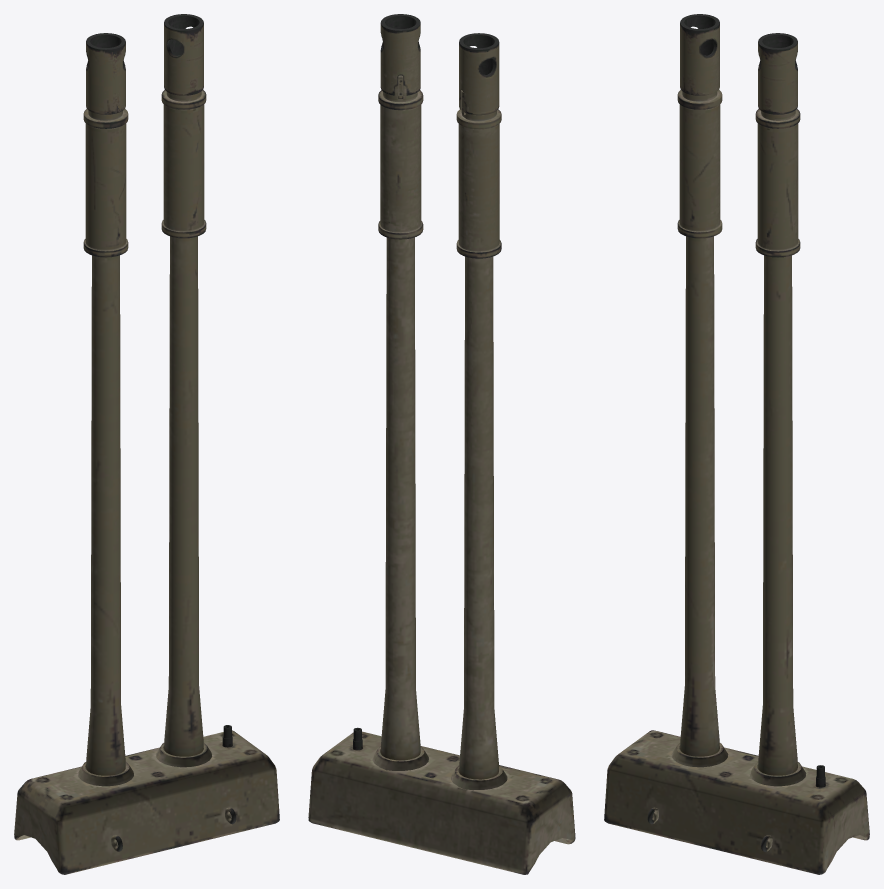
File: Gun_01.glb
3 views of the same model, side by side, from view 1: azimuth 30°, elevation 25°; view 2: azimuth 150°, elevation 25°; view 3: azimuth 330°, elevation 25° (orthographic).
Visible parts, largest first — view 1: set_0_group_0; view 2: set_0_group_0; view 3: set_0_group_0.
Boxes of the visible parts, <box> form: set_0_group_0: <box>14,14,279,874</box>; set_0_group_0: <box>308,14,575,874</box>; set_0_group_0: <box>604,14,869,874</box>.
Bounding box in the file's own units: 1.24 × 4.3 × 0.5503.
1 material, 1 textured.
